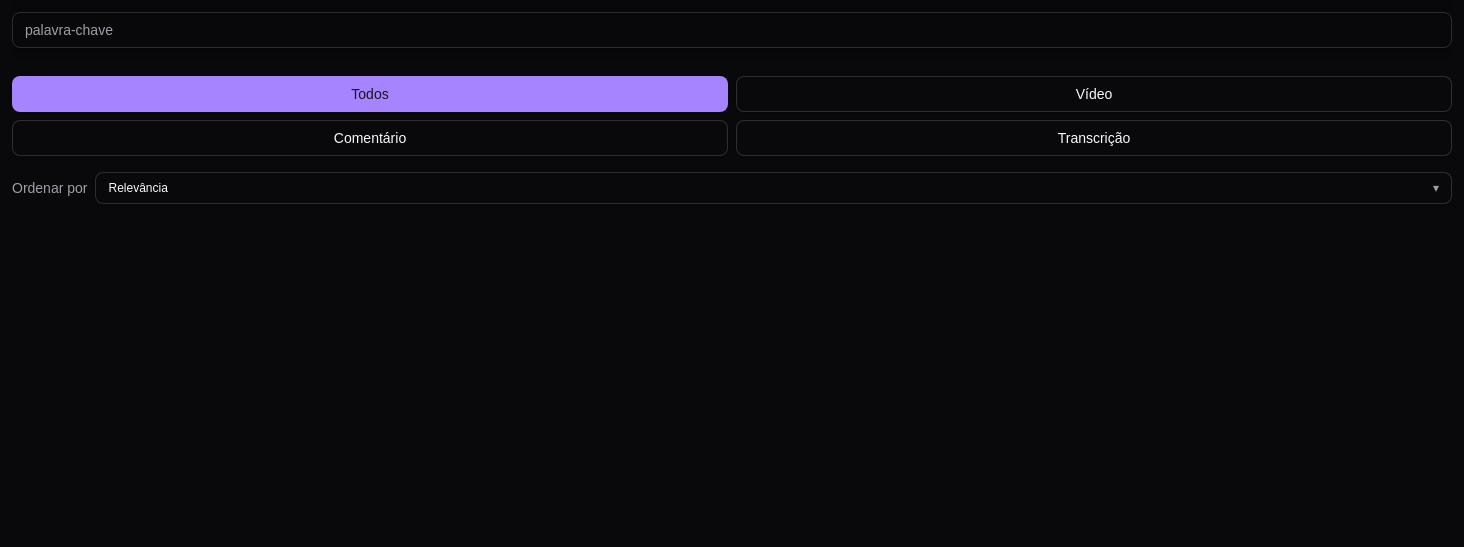
Test case: SearchView › Esc no input limpa o campo e os resultados exibidos
In the search field named "Buscar": (732, 30) [12, 12, 1452, 48], type "gato"
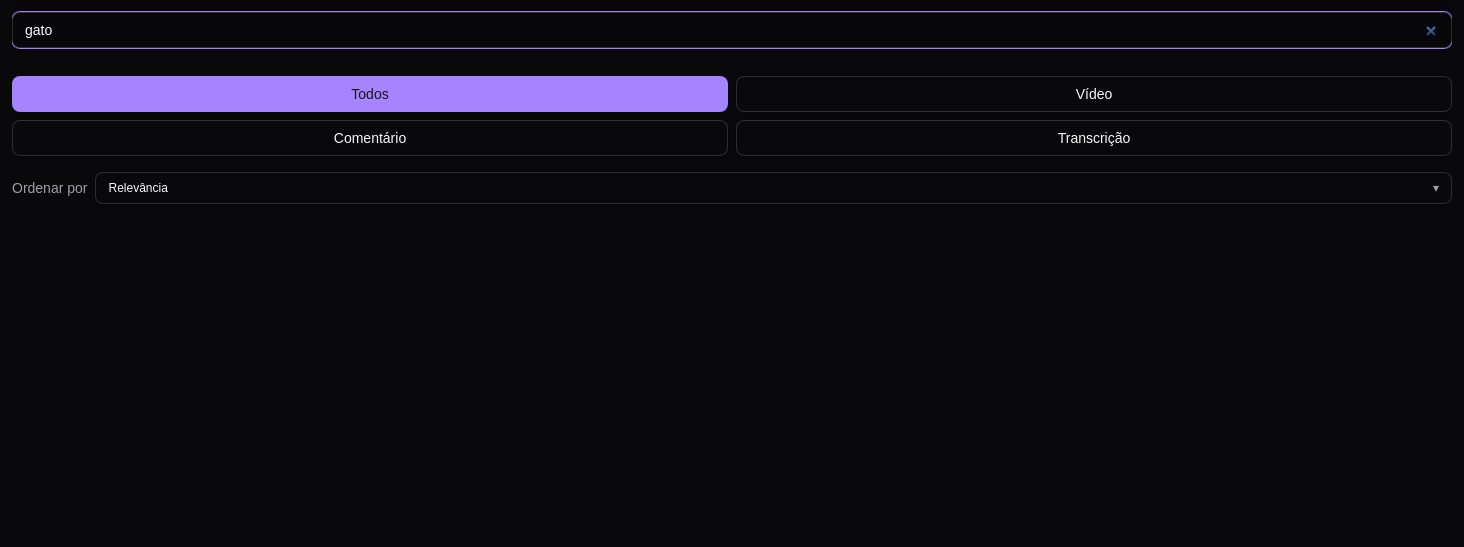
Press Enter in the search field named "Buscar", box [12, 12, 1452, 48]
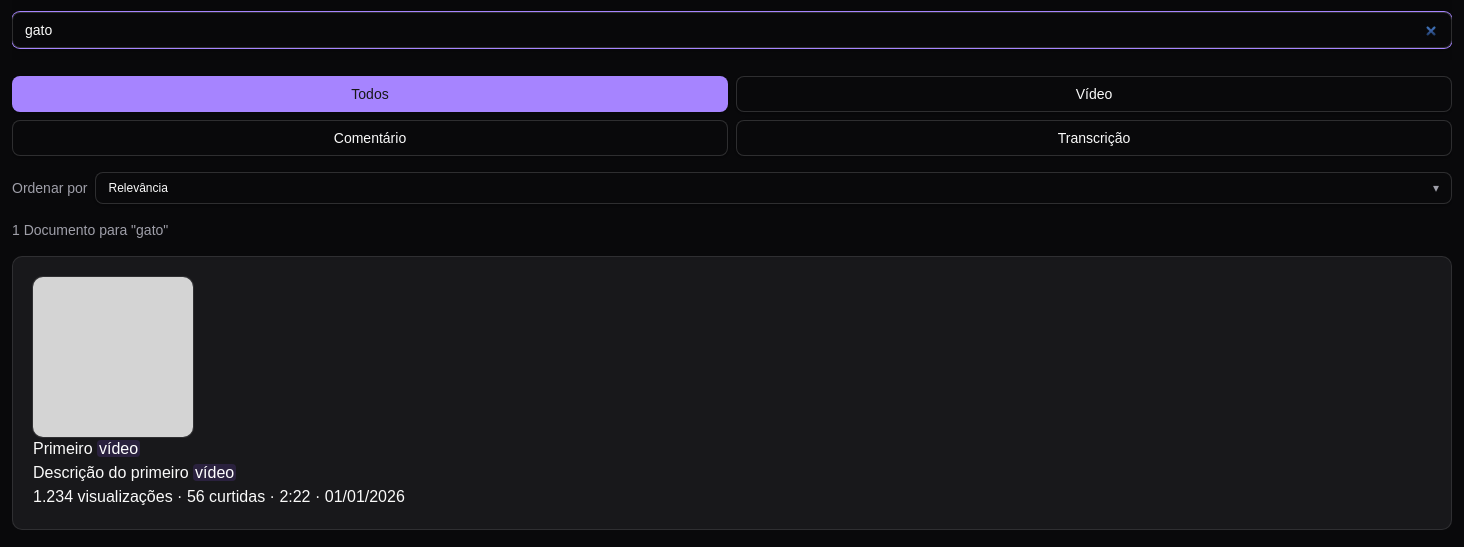
Expected: the link "Primeiro vídeo" is shown, [33, 440, 140, 457]
Press Escape in the search field named "Buscar", box [12, 12, 1452, 48]
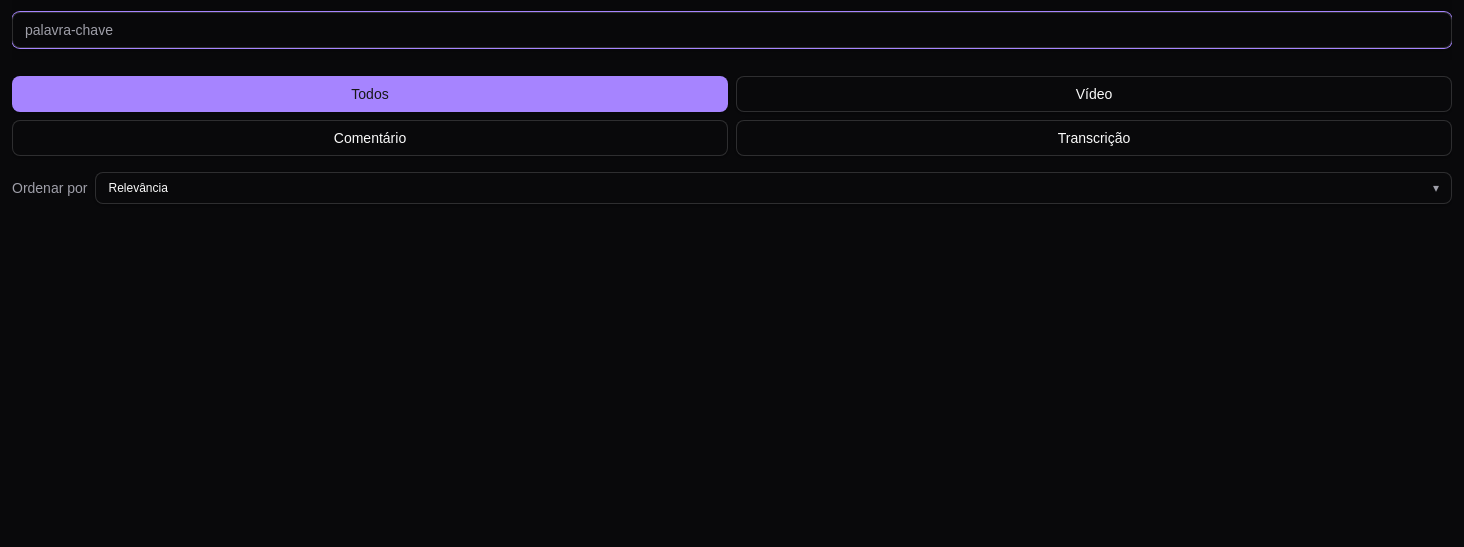
Expected: the search field named "Buscar" is empty, [12, 12, 1452, 48]
Expected: the link "Primeiro vídeo" is gone
